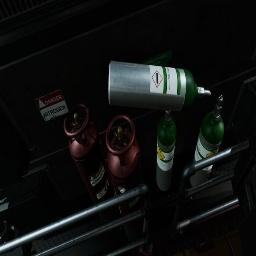0: (108, 60, 211, 112), (190, 95, 224, 187), (156, 110, 176, 191)
NitrogenTank ,: (64, 102, 117, 221), (105, 114, 146, 243)
